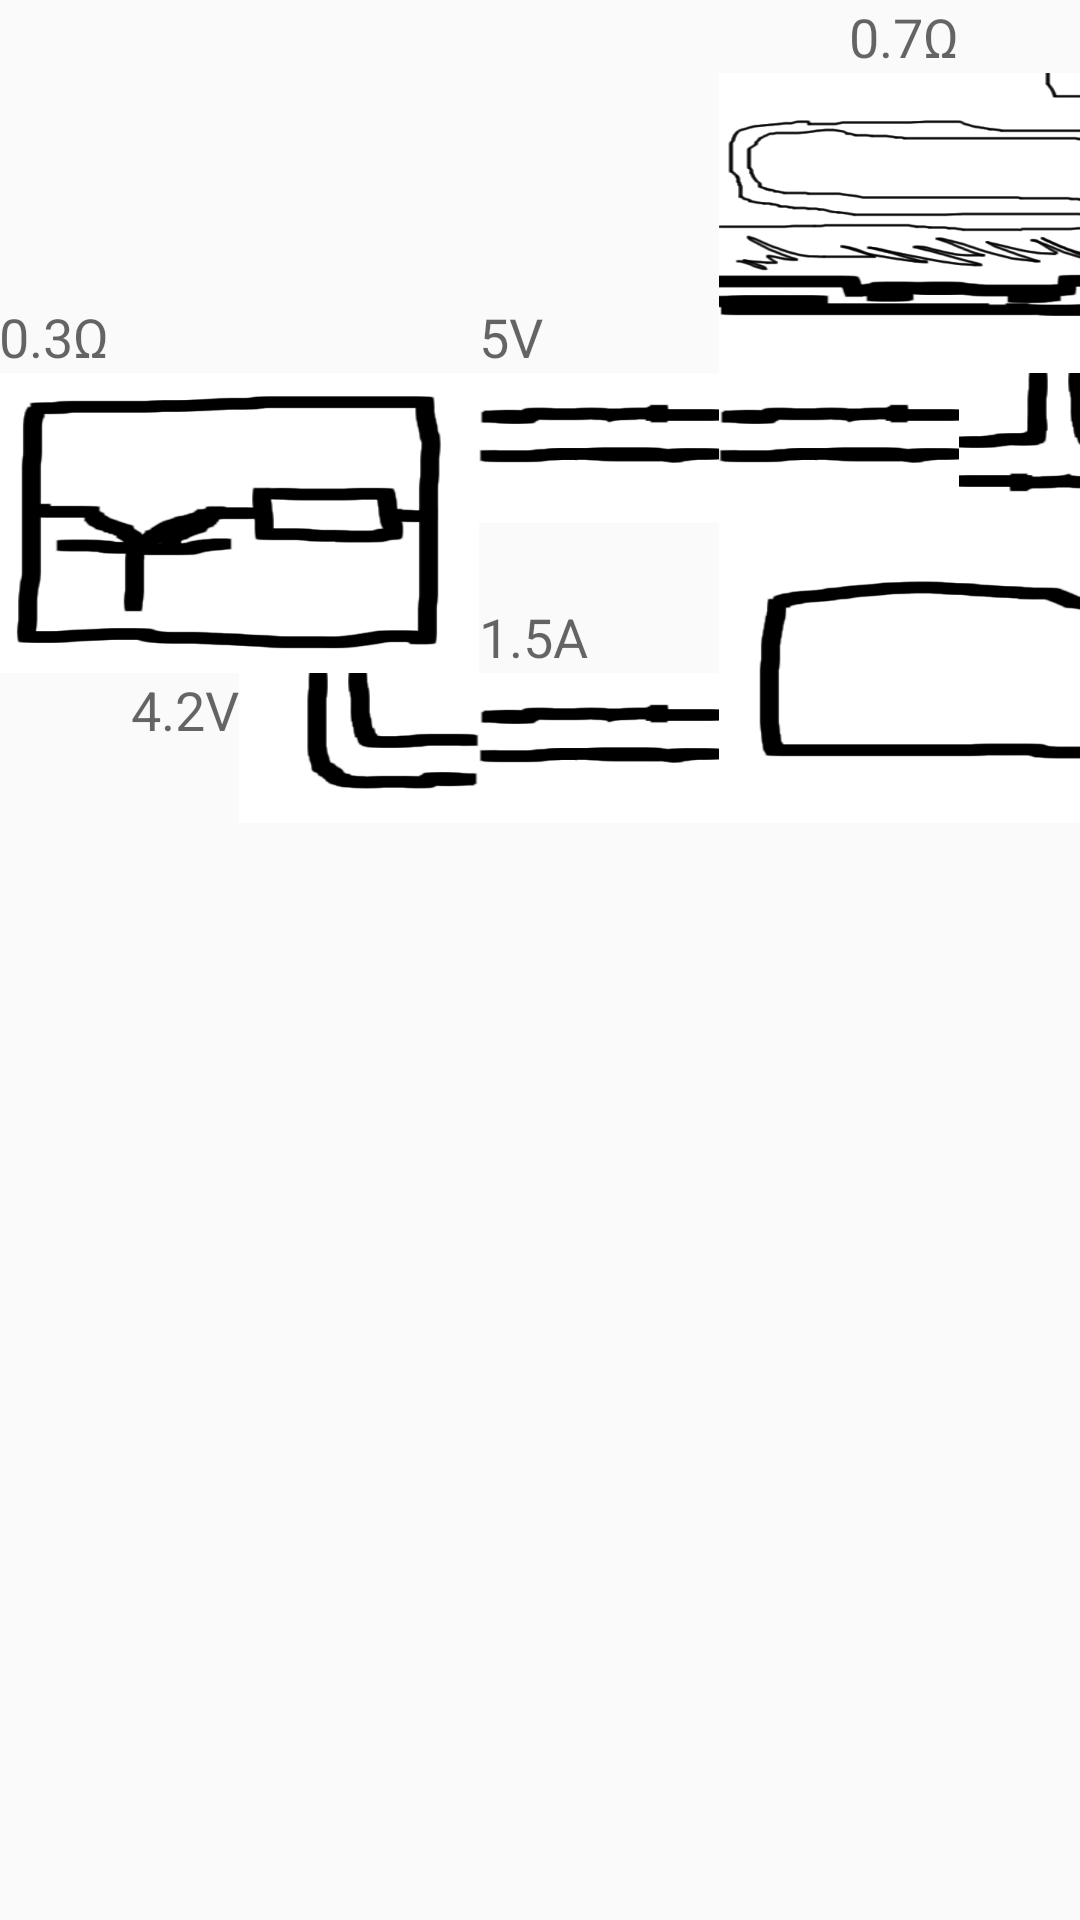

Icons on this 1080px×1920px Android screen, each with its box as bbox=(x1, y1, x2, y2):
conduit rt: bbox=(307, 673, 479, 789)
